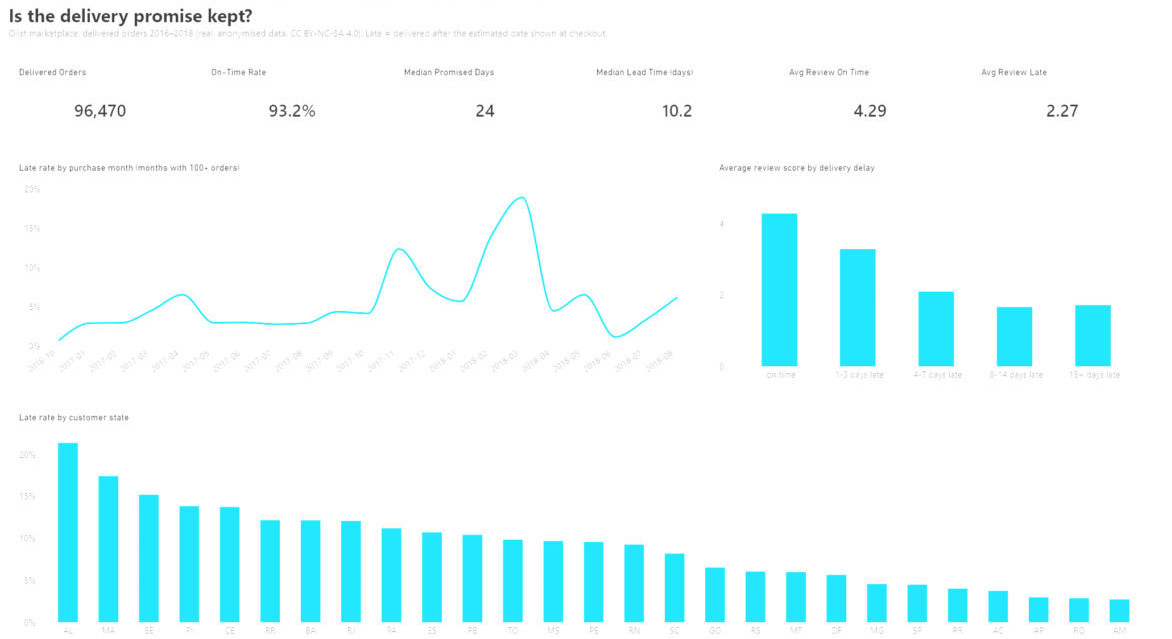

The page's visual inventory and layout, read from the dashboard file:
{"tool":"powerbi","page":{"name":"Promise vs reality","canvas":[1920,1080],"ordinal":0},"visuals":[{"type":"textbox","box":[30,10,1860,80],"z":0},{"type":"card","title":"Delivered Orders","fields":{"Values":["fact_orders.Delivered Orders"]},"box":[30,100,297,140],"z":1},{"type":"card","title":"On-Time Rate","fields":{"Values":["fact_orders.On-Time Rate"]},"box":[342,100,297,140],"z":2},{"type":"card","title":"Median Promised Days","fields":{"Values":["fact_orders.Median Promised Days"]},"box":[654,100,297,140],"z":3},{"type":"card","title":"Median Lead Time (days)","fields":{"Values":["fact_orders.Median Lead Time (days)"]},"box":[966,100,297,140],"z":4},{"type":"card","title":"Avg Review On Time","fields":{"Values":["fact_orders.Avg Review On Time"]},"box":[1278,100,297,140],"z":5},{"type":"card","title":"Avg Review Late","fields":{"Values":["fact_orders.Avg Review Late"]},"box":[1590,100,297,140],"z":6},{"type":"lineChart","title":"Late rate by purchase month (months with 100+ orders)","fields":{"Category":["dim_date.year_month"],"Y":["fact_orders.Late Rate"]},"box":[30,255,1120,390],"z":10},{"type":"clusteredColumnChart","title":"Average review score by delivery delay","fields":{"Category":["fact_orders.delay_band"],"Y":["fact_orders.Avg Review"]},"box":[1165,255,725,390],"z":11},{"type":"clusteredColumnChart","title":"Late rate by customer state","fields":{"Category":["fact_orders.customer_state"],"Y":["fact_orders.Late Rate"]},"box":[30,660,1860,400],"z":12}]}

Visuals, with their boxes on the page's 1920x1080 design canvas (x1, y1, x2, y2). These are canvas units, not pixel positions in the 1172x639 screenshot, which may show the page scaled, cropped or inside an application window:
textbox: select_region(30, 10, 1890, 90)
"Delivered Orders" card: select_region(30, 100, 327, 240)
"On-Time Rate" card: select_region(342, 100, 639, 240)
"Median Promised Days" card: select_region(654, 100, 951, 240)
"Median Lead Time (days)" card: select_region(966, 100, 1263, 240)
"Avg Review On Time" card: select_region(1278, 100, 1575, 240)
"Avg Review Late" card: select_region(1590, 100, 1887, 240)
"Late rate by purchase month (months with 100+ orders)" lineChart: select_region(30, 255, 1150, 645)
"Average review score by delivery delay" clusteredColumnChart: select_region(1165, 255, 1890, 645)
"Late rate by customer state" clusteredColumnChart: select_region(30, 660, 1890, 1060)
